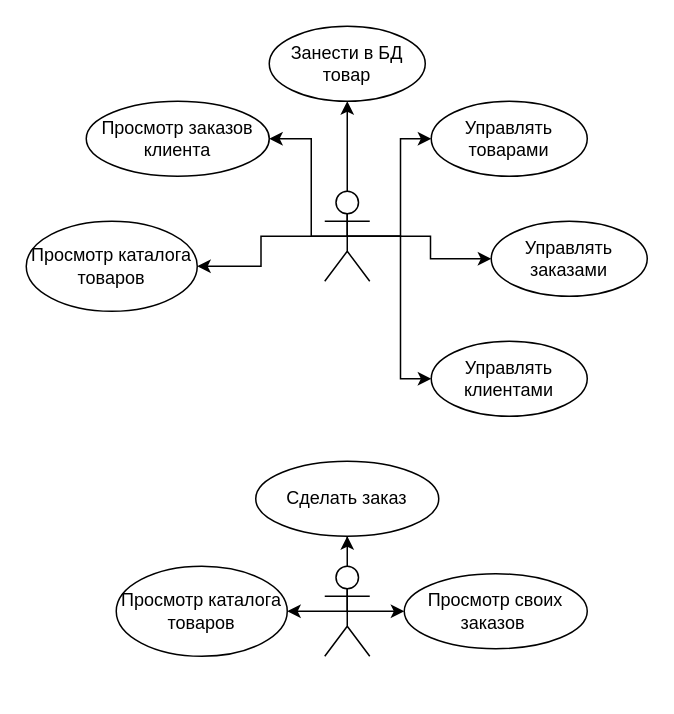
The diagram is 674 pixels wide and 714 high, and some of its shapes have lost their labels. The shapes that lost their labels are listed below. From the top down, each one's box as (x1, y1, x2, y2) in pixels, then its label:
(323, 190, 370, 281): Администратор
(323, 565, 370, 656): Клиент
